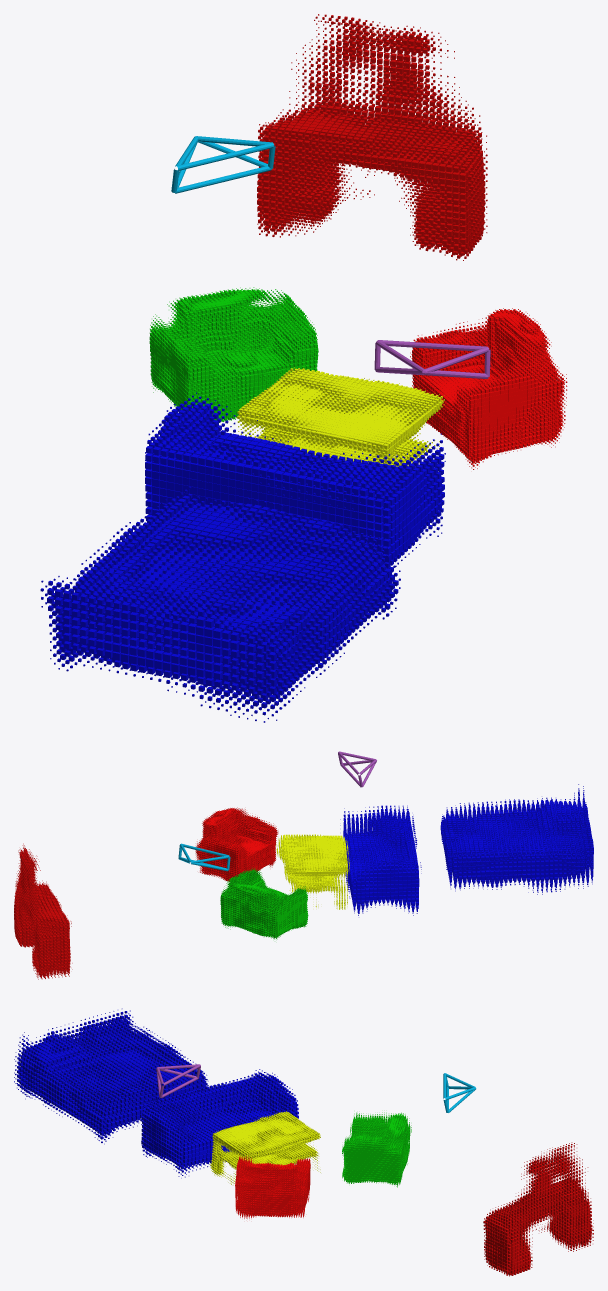
File: Prediction.glb
The picture shows the model from 3 angles, top to bottom: view 1: azimuth 30°, elevation 25°; view 2: azimuth 150°, elevation 25°; view 3: azimuth 270°, elevation 25°; orthographic projection. The views are drawn at different scales.
Parts seen in each view (by area): view 1: Node; view 2: Node; view 3: Node.
Boxes of the visible parts, x1,y1,x2,y2 form: Node: (40, 14, 567, 722); Node: (14, 751, 593, 979); Node: (14, 1008, 593, 1276).
Bounding box in the file's own units: 6.66 × 1.66 × 7.86.
